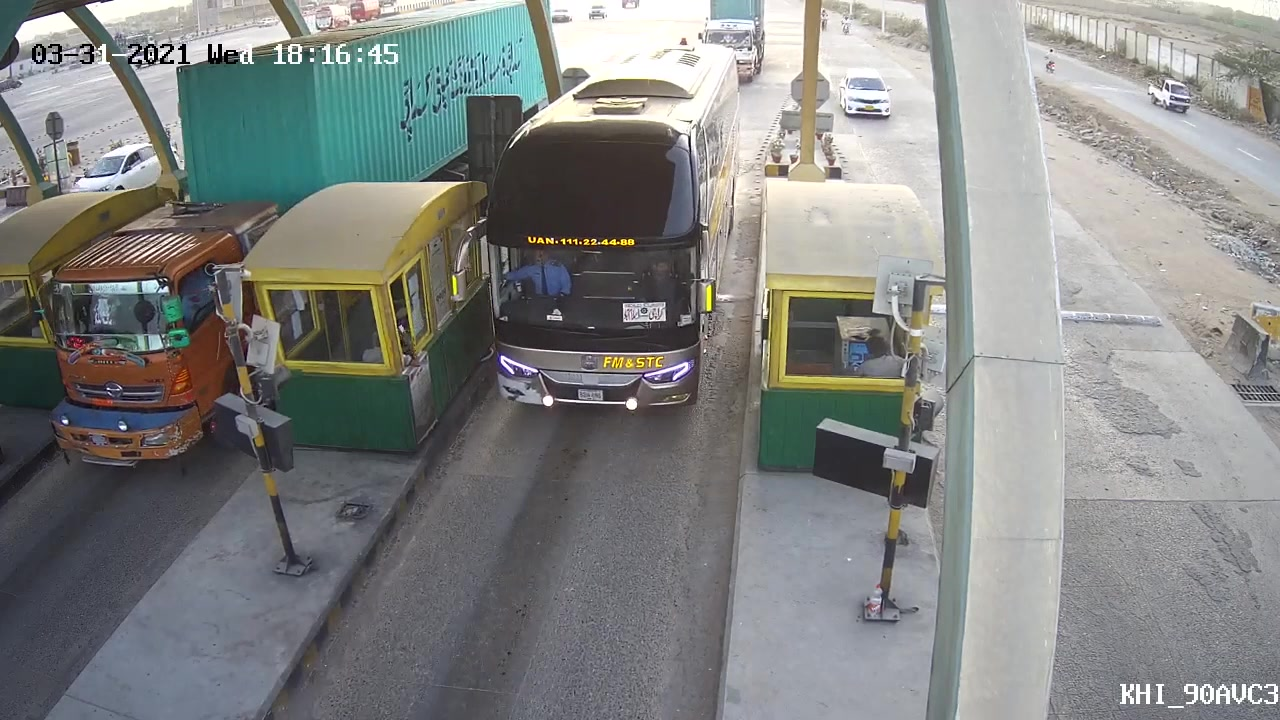F4: (450, 60, 748, 424)
